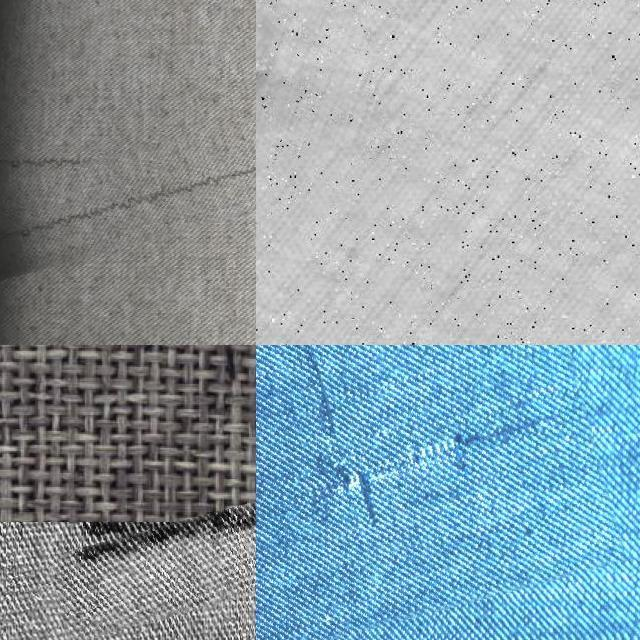Thread_other: (48, 506, 256, 628)
other: (256, 0, 379, 176)
stains: (256, 345, 608, 640), (0, 71, 256, 243)
